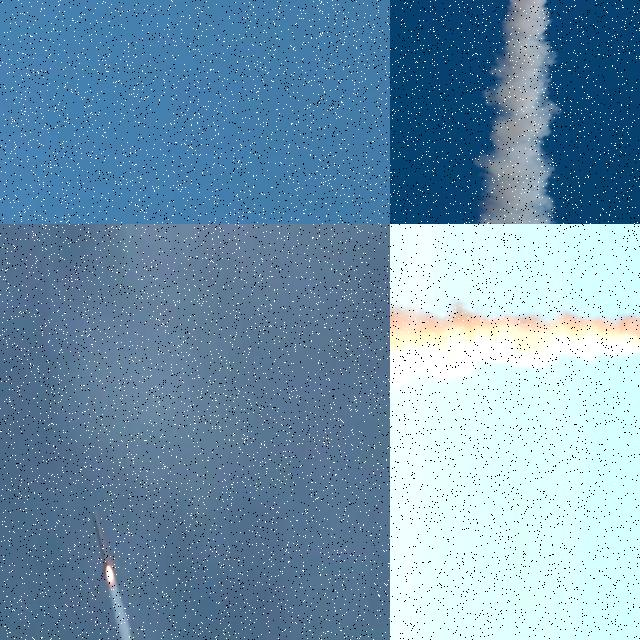Rocket: (92, 508, 115, 574)
